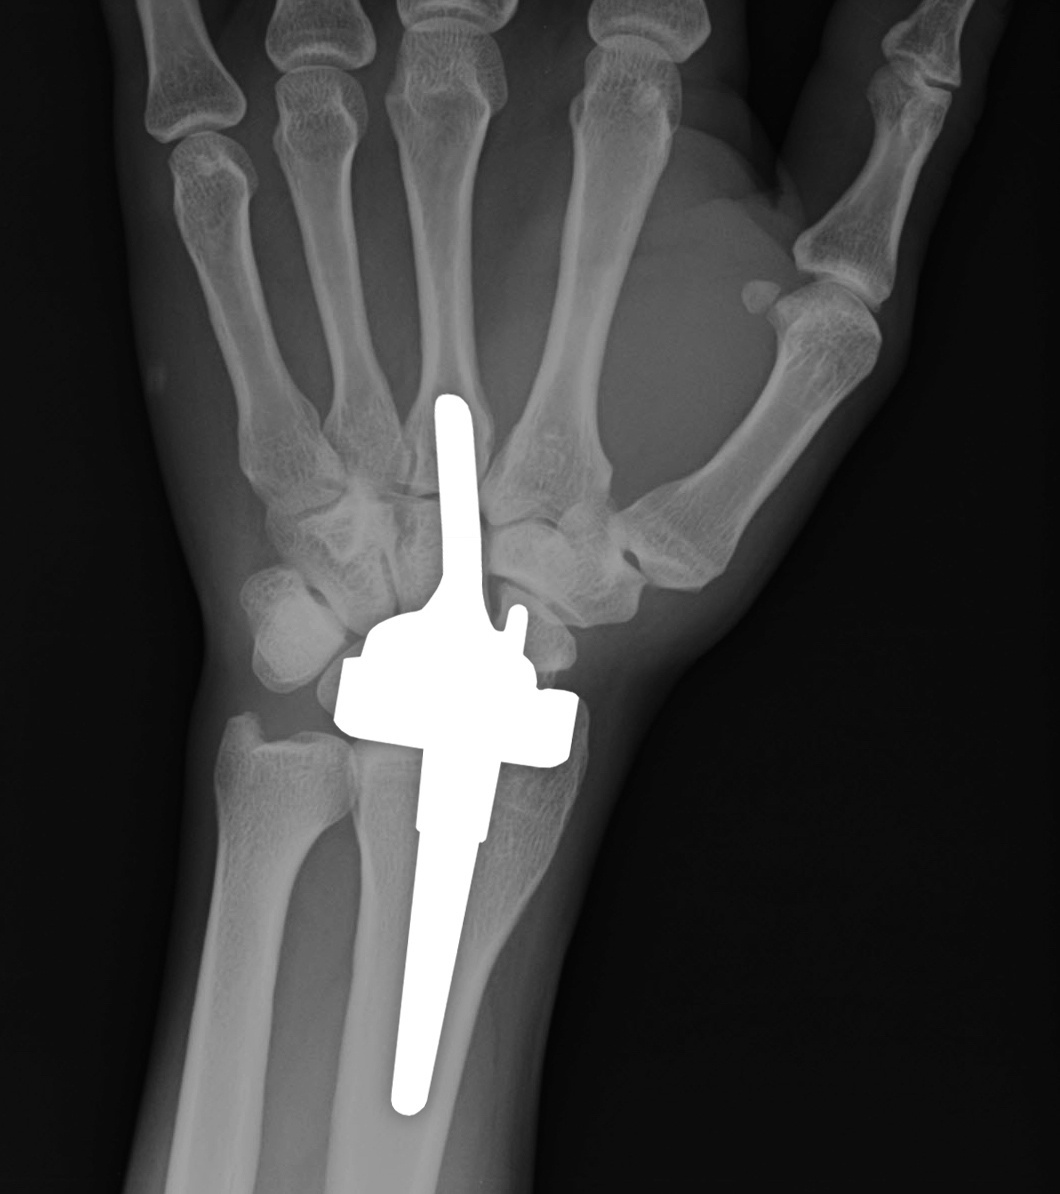Wrist-Biax-DePuuy: (294, 385, 591, 1149)
